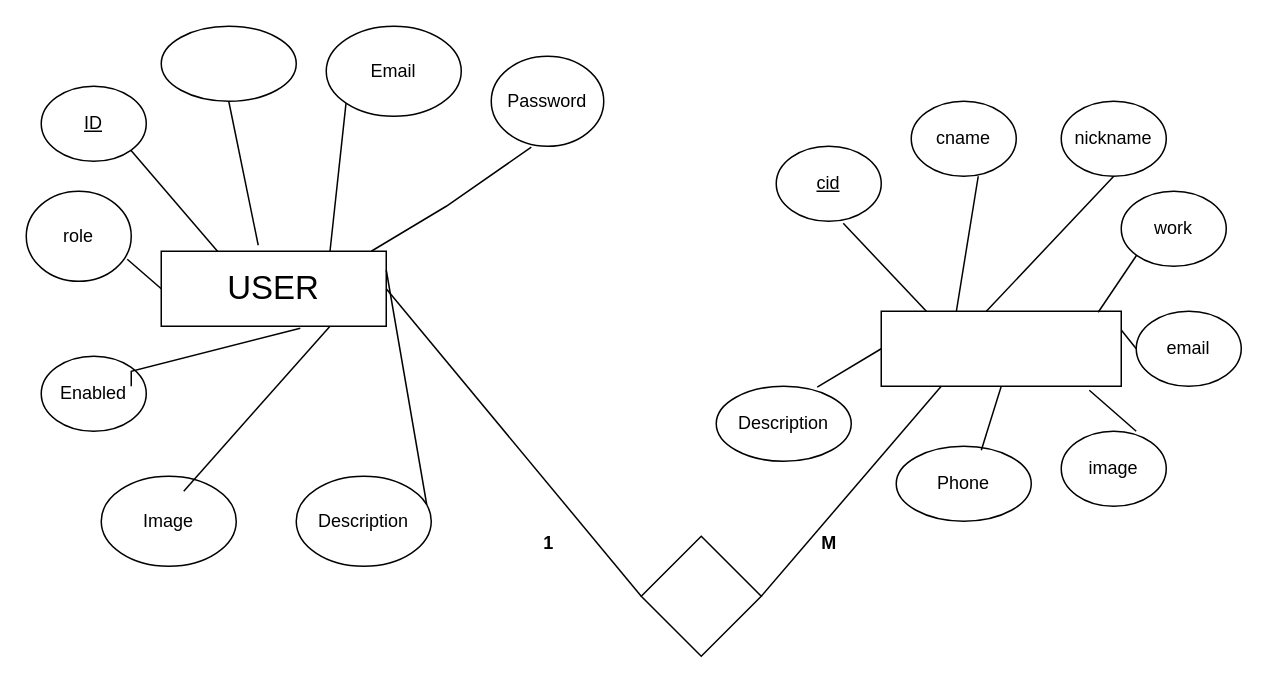
This 1268x683 diagram has some shape labels left out. The centre of each missing label's shape, as x and y in pixels:
CONTACT: (x=1000, y=348)
Has: (x=700, y=595)
Name: (x=228, y=63)
